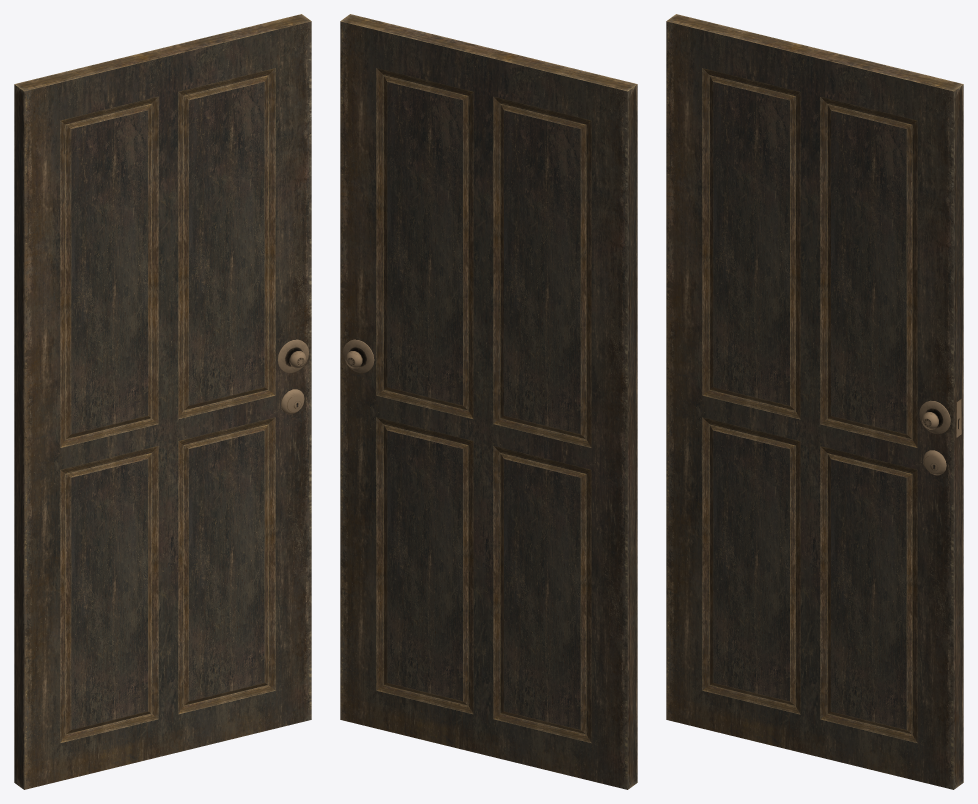
Rendered from SM_Door.fbx.
3 views of the same model, side by side, from view 1: azimuth 30°, elevation 25°; view 2: azimuth 150°, elevation 25°; view 3: azimuth 330°, elevation 25° (orthographic).
Visible parts, largest first — view 1: SM_Door; view 2: SM_Door; view 3: SM_Door.
Boxes of the visible parts, bbox=[...] form: SM_Door: bbox=[14, 14, 311, 789]; SM_Door: bbox=[340, 14, 637, 789]; SM_Door: bbox=[666, 14, 963, 789].
Bounding box in the file's own units: 1.11 × 2.58 × 0.168.
